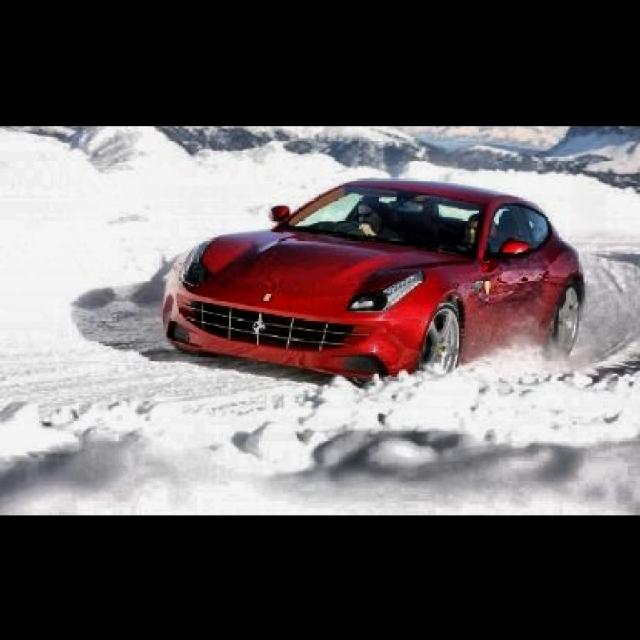maroon: (161, 175, 583, 377)
